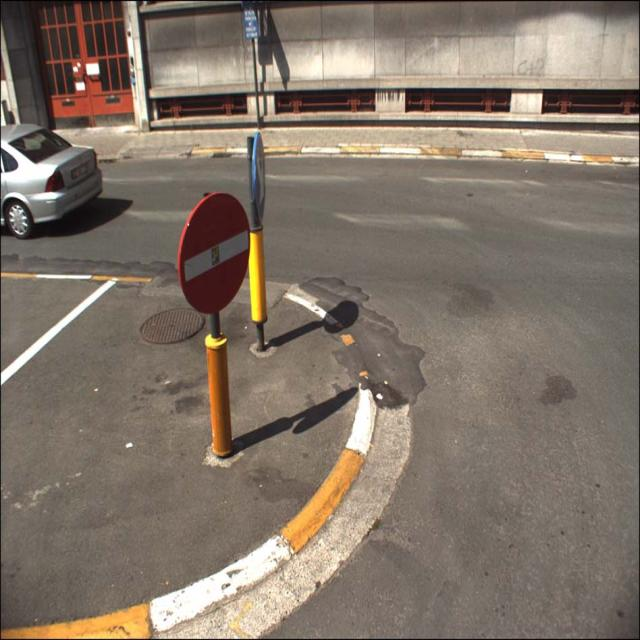girisyok: (177, 194, 250, 312)
